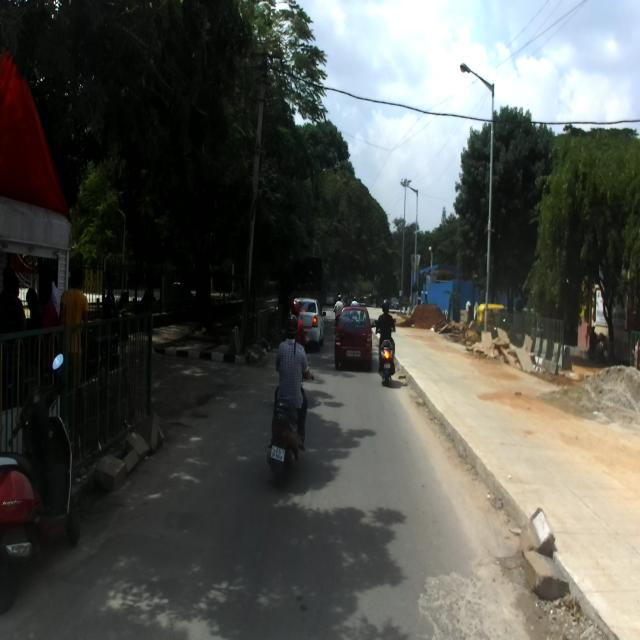car ahead at: (336, 301, 371, 376)
motorcycle ahead at: (0, 348, 85, 602), (269, 322, 314, 480), (372, 297, 398, 381)
